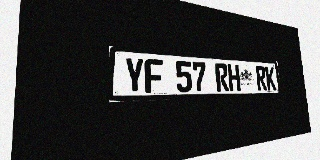5: (176, 61, 193, 92)
7: (191, 62, 207, 92)
F: (144, 58, 164, 93)
H: (227, 64, 241, 91)
K: (265, 66, 276, 90)
R: (215, 63, 229, 91), (255, 66, 267, 90)
Y: (124, 57, 145, 94)
